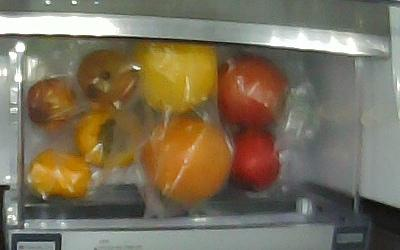apple_vinyl: (212, 54, 288, 128), (232, 127, 281, 192)
grapefruit_vinyl: (142, 115, 234, 204), (134, 39, 217, 114)
persimmon_vinyl: (73, 105, 144, 167), (29, 149, 92, 198)
prune_vinyl: (79, 49, 137, 106), (25, 79, 79, 134)
